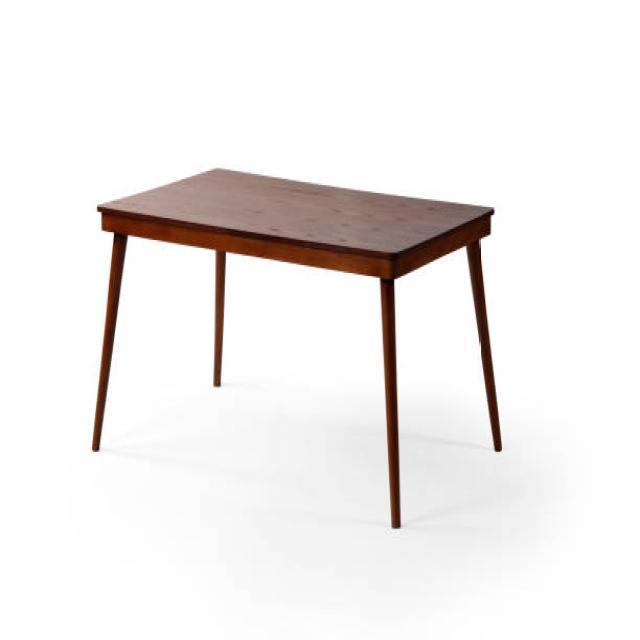table: (91, 164, 502, 528)
